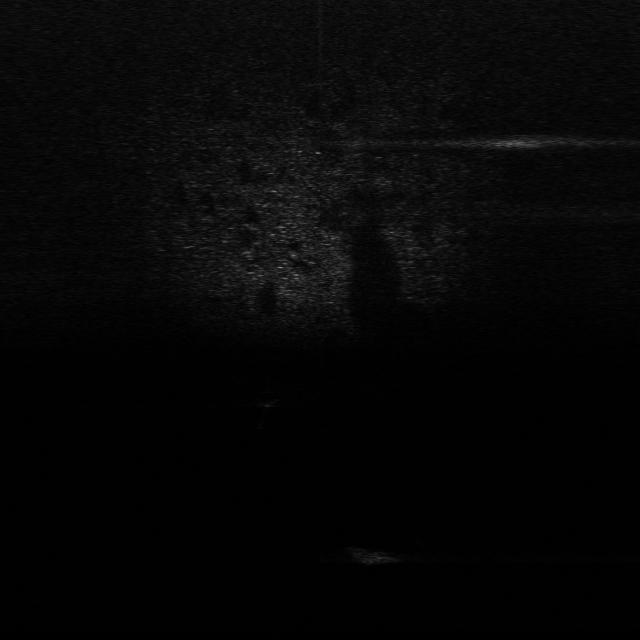ball: (254, 386, 284, 408)
metal bucket: (348, 545, 398, 567)
